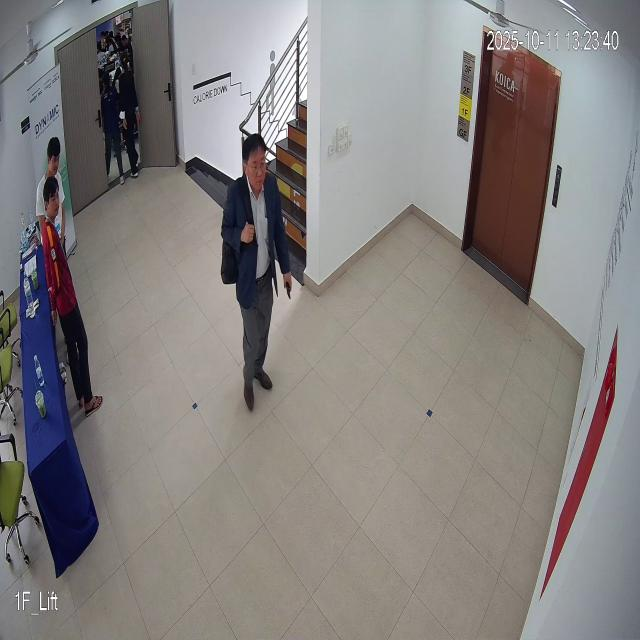face: (242, 125, 273, 202), (41, 173, 62, 220)
